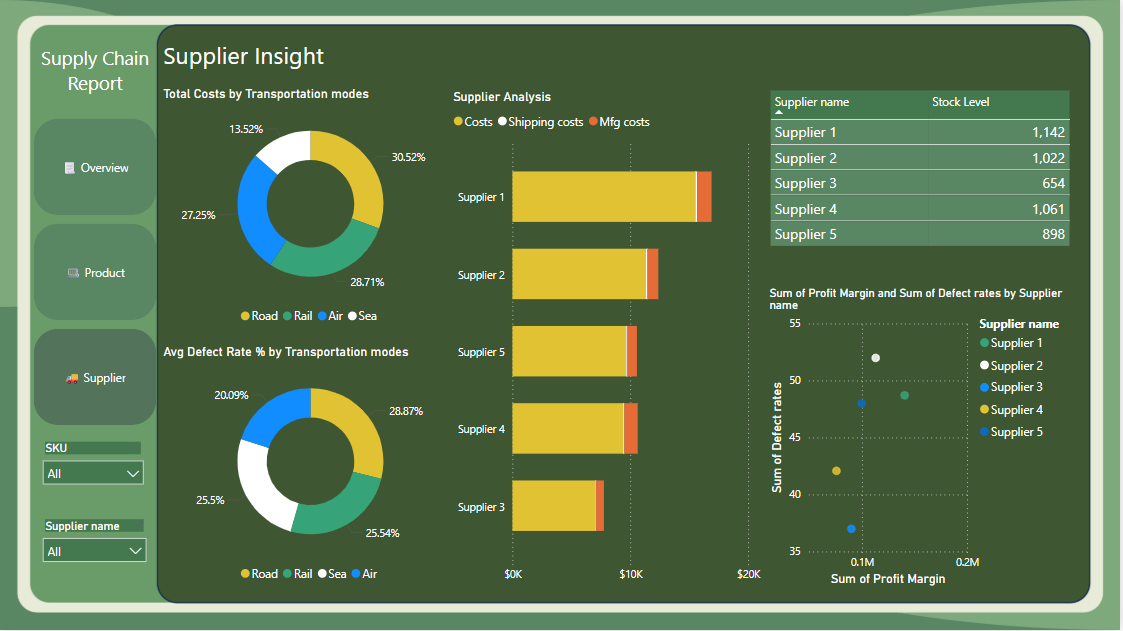

The dashboard page shown, as its layout file describes it:
{"tool":"powerbi","page":{"name":"🚚 Supplier","canvas":[1280,720],"ordinal":2},"visuals":[{"type":"donutChart","fields":{"Category":["supply_chain_data.Transportation modes"],"Y":["_Measures.Total Costs"]},"box":[181.4,98.6,347.1,281.4],"z":0},{"type":"pageNavigator","box":[38.6,135.7,140,350],"z":0,"group":"g1"},{"type":"donutChart","fields":{"Category":["supply_chain_data.Transportation modes"],"Y":["_Measures.Avg Defect Rate %"]},"box":[181.4,392.9,347.1,281.4],"z":1000},{"type":"slicer","fields":{"Values":["supply_chain_data.SKU"]},"box":[38.6,500,135.7,62.9],"z":1000,"group":"g1"},{"type":"barChart","title":"Supplier Analysis","fields":{"Category":["supply_chain_data.Supplier name"],"Y":["Sum(supply_chain_data.Costs)","Sum(supply_chain_data.Shipping costs)","Sum(supply_chain_data.Mfg costs)"]},"box":[512.9,101.4,361.4,572.9],"z":1001},{"type":"tableEx","fields":{"Values":["supply_chain_data.Supplier name","_Measures.Stock Level"]},"box":[874.3,98.6,357.1,225.7],"z":1002},{"type":"scatterChart","fields":{"X":["Sum(supply_chain_data.Profit Margin)"],"Y":["Sum(supply_chain_data.Defect rates)"],"Series":["supply_chain_data.Supplier name"]},"box":[874.3,327.1,357.1,347.1],"z":1003},{"type":"textbox","box":[181.4,40,207.1,51.4],"z":1004},{"type":"group","id":"g1","title":"Group 1","box":[38.6,45.7,140,608.6],"z":1005},{"type":"slicer","fields":{"Values":["supply_chain_data.Supplier name"]},"box":[38.6,588.6,138.6,65.7],"z":2000,"group":"g1"},{"type":"textbox","box":[38.6,45.7,140,90],"z":3000,"group":"g1"}]}

Visuals, with their boxes in screenshot pixels (x1, y1, x2, y2), scaled from the page's 1280x720 canvas onto the 1123x631 screenshot:
donutChart - supply_chain_data.Transportation modes x _Measures.Total Costs: (left=159, top=86, right=464, bottom=333)
pageNavigator: (left=34, top=119, right=157, bottom=426)
donutChart - supply_chain_data.Transportation modes x _Measures.Avg Defect Rate %: (left=159, top=344, right=464, bottom=591)
slicer - supply_chain_data.SKU: (left=34, top=438, right=153, bottom=493)
"Supplier Analysis" barChart: (left=450, top=89, right=767, bottom=591)
tableEx - supply_chain_data.Supplier name x _Measures.Stock Level: (left=767, top=86, right=1080, bottom=284)
scatterChart - Sum(supply_chain_data.Profit Margin) x Sum(supply_chain_data.Defect rates): (left=767, top=287, right=1080, bottom=591)
textbox: (left=159, top=35, right=341, bottom=80)
"Group 1" group: (left=34, top=40, right=157, bottom=573)
slicer - supply_chain_data.Supplier name: (left=34, top=516, right=155, bottom=573)
textbox: (left=34, top=40, right=157, bottom=119)
